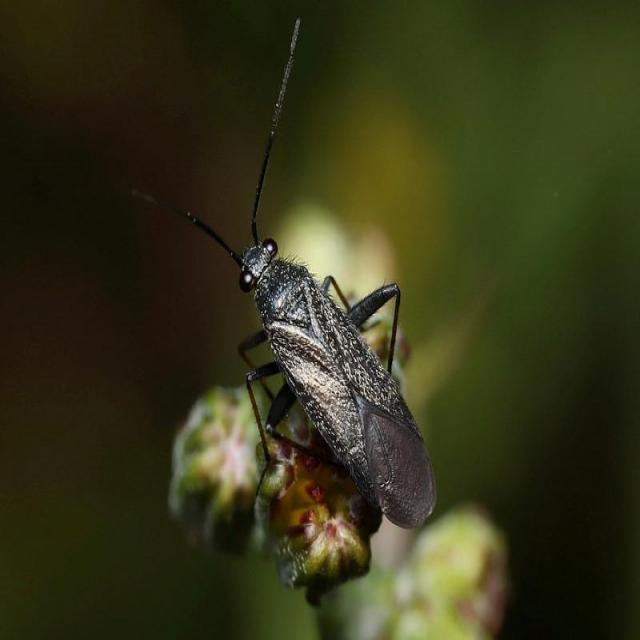Miridae-Adult-: (132, 18, 440, 531)
